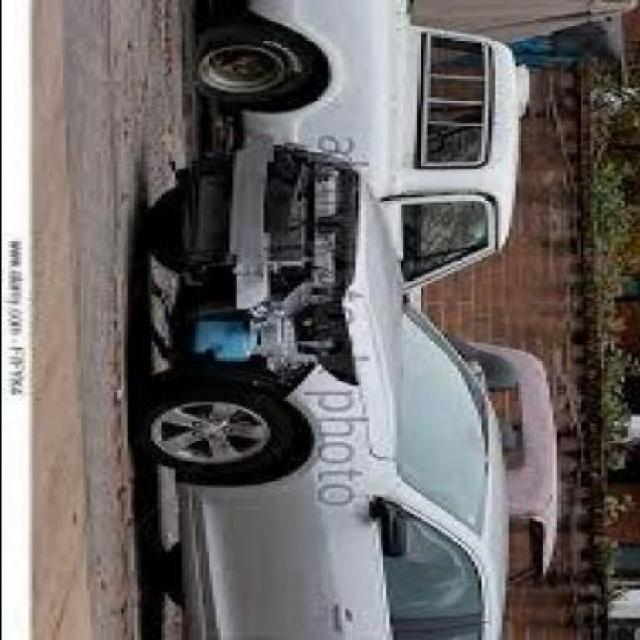damage: (179, 135, 364, 398)
